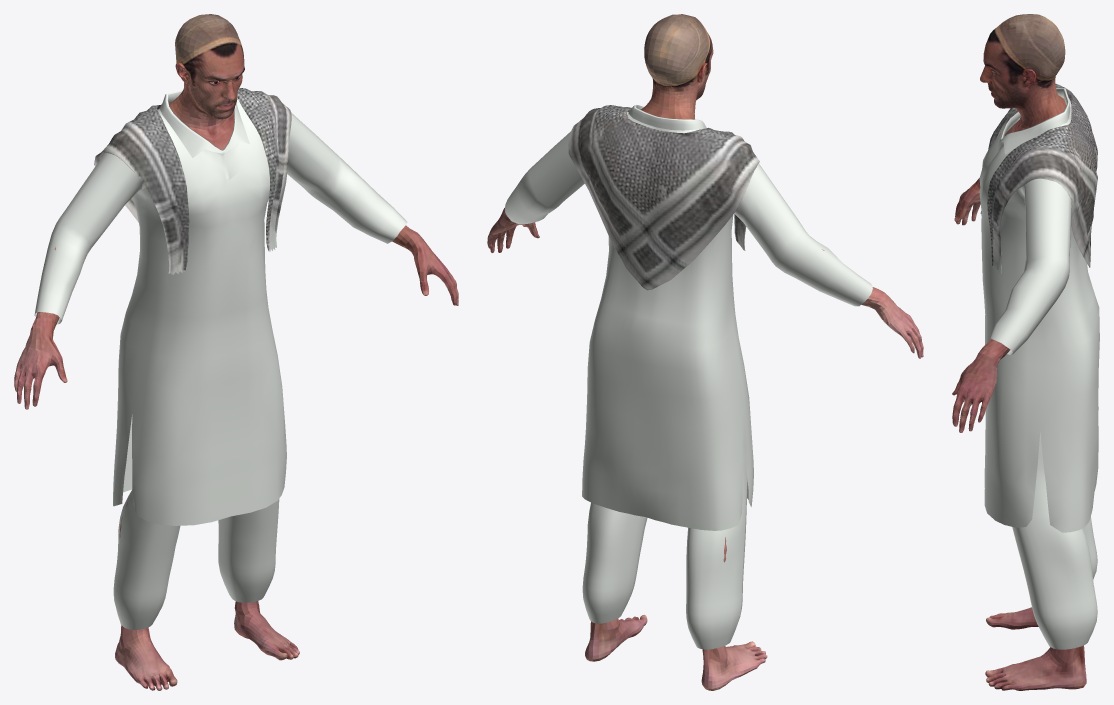
File: islam.glb
3 views of the same model, side by side, from view 1: azimuth 30°, elevation 25°; view 2: azimuth 150°, elevation 25°; view 3: azimuth 270°, elevation 25° (orthographic).
Parts seen in each view (by area): view 1: uniform, body; view 2: uniform, body; view 3: uniform, body.
Part boxes in pixels (x1,y1,x2,y2): uniform: (34,88,407,629); body: (14,14,458,690); uniform: (504,105,872,649); body: (487,14,923,690); uniform: (979,83,1099,649); body: (952,14,1086,690).
Bounding box in the file's own units: 0.3221 × 0.4549 × 0.0952.
3 materials, 3 textured.
